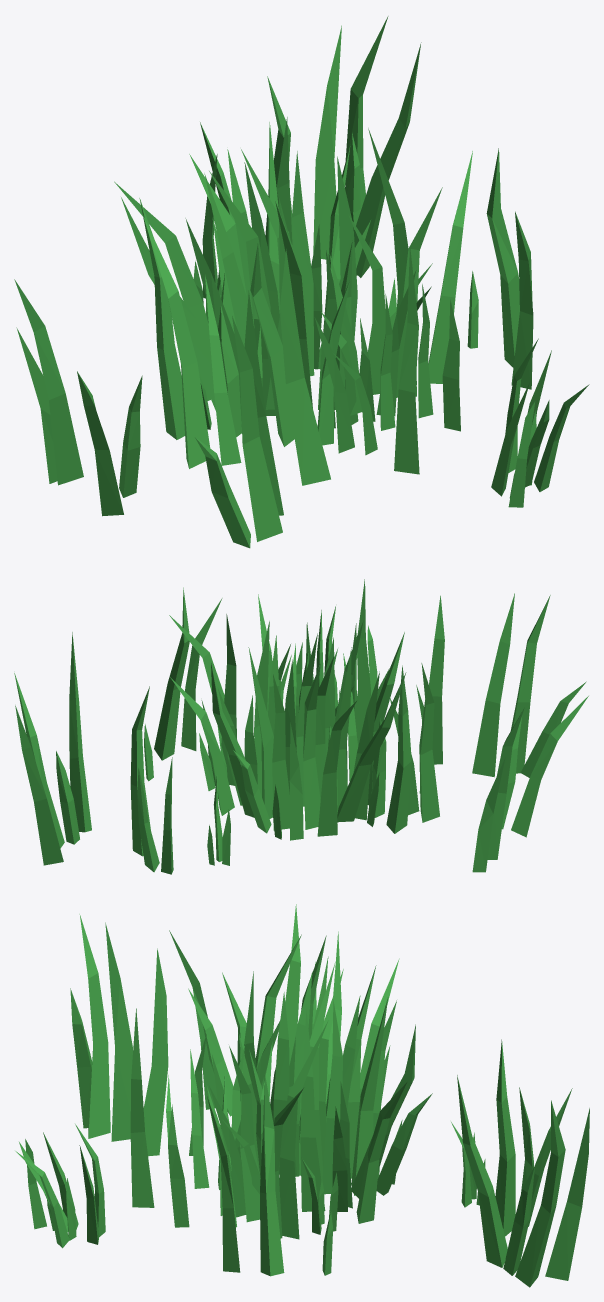
Rendered from Grama.fbx.
3 renders of one model, top to bottom at view 1: azimuth 30°, elevation 25°; view 2: azimuth 150°, elevation 25°; view 3: azimuth 270°, elevation 25°, orthographic. The views are drawn at different scales.
Visible parts, largest first — view 1: Grama; view 2: Grama; view 3: Grama.
Boxes of the visible parts, x1,y1,x2,y2 form: Grama: (14, 16, 589, 548); Grama: (14, 579, 588, 874); Grama: (15, 904, 589, 1287).
Size of the model in its own units: 58.31 by 28.73 by 63.31.
